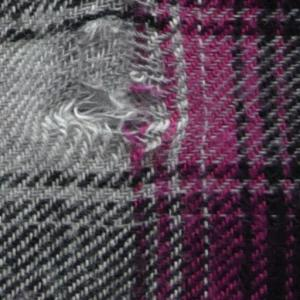Damage: (36, 1, 194, 174)
